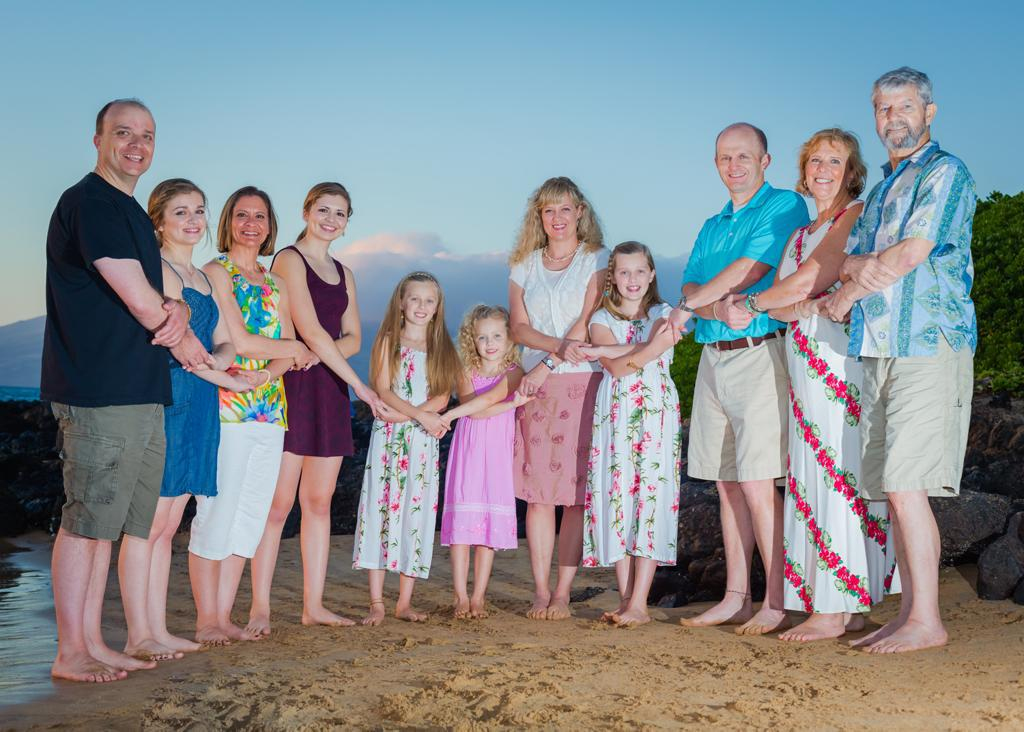face: (103, 108, 156, 177), (876, 87, 925, 148), (717, 135, 762, 192), (806, 142, 847, 200), (165, 193, 206, 244), (233, 196, 269, 247), (310, 195, 347, 242), (543, 194, 578, 241), (616, 254, 651, 300), (405, 281, 438, 325), (476, 318, 508, 360)
